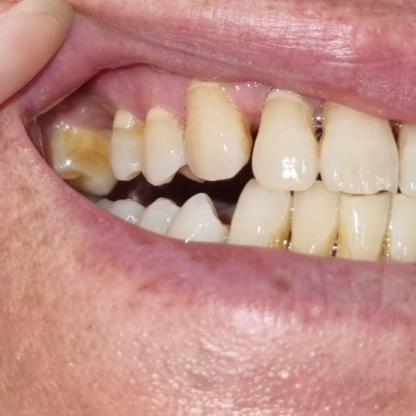Gap: (212, 91, 286, 183)
